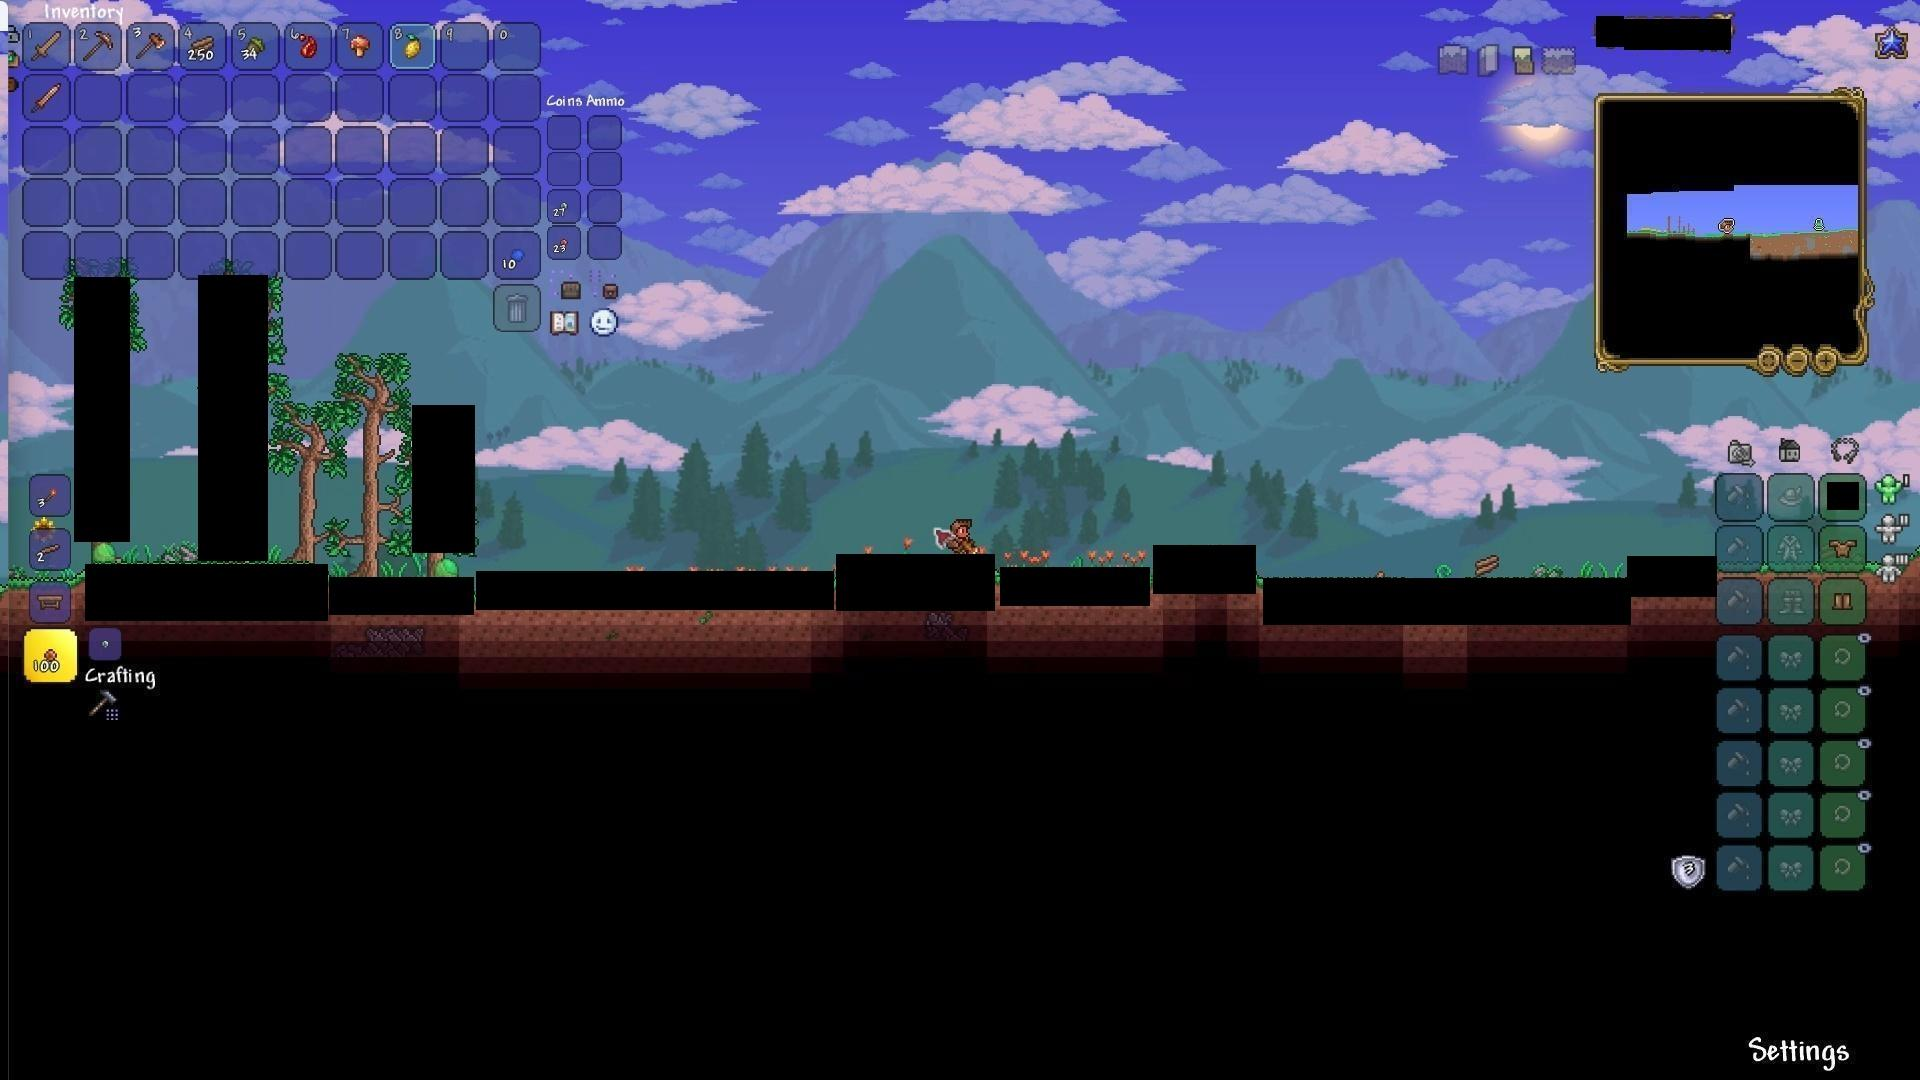breastplate: (1829, 538, 1859, 559)
dirt: (0, 566, 29, 611)
legs: (1830, 587, 1857, 616)
slime: (429, 556, 464, 582), (84, 542, 119, 567)
tree: (336, 338, 405, 575), (266, 396, 336, 560)
wood: (189, 33, 218, 61), (1473, 554, 1501, 579)
workbench: (34, 591, 69, 617)
